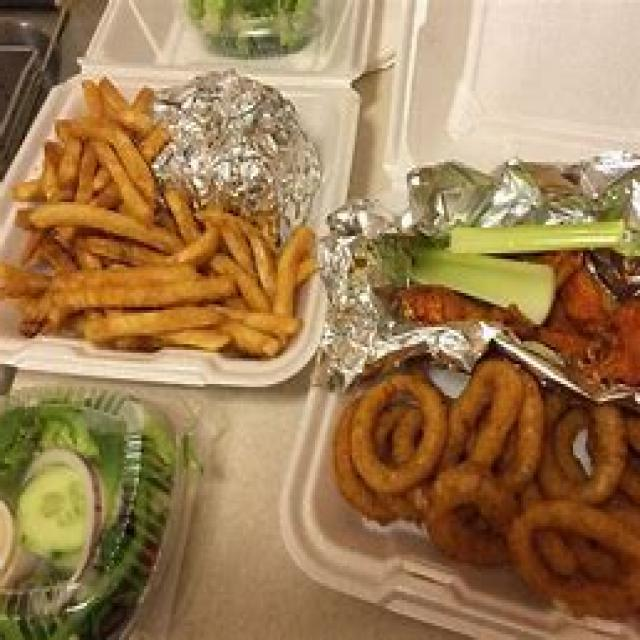Chicken Wings: (382, 190, 640, 353)
French Fries: (5, 88, 320, 350)
Onion Rings: (328, 356, 638, 617)
